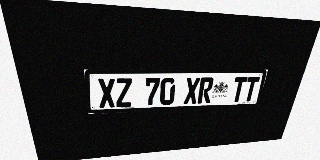0: (159, 78, 176, 105)
7: (144, 78, 160, 106)
R: (197, 77, 214, 104)
T: (230, 77, 248, 102), (242, 77, 260, 102)
X: (97, 78, 116, 108), (183, 77, 200, 104)
Z: (115, 78, 132, 107)
